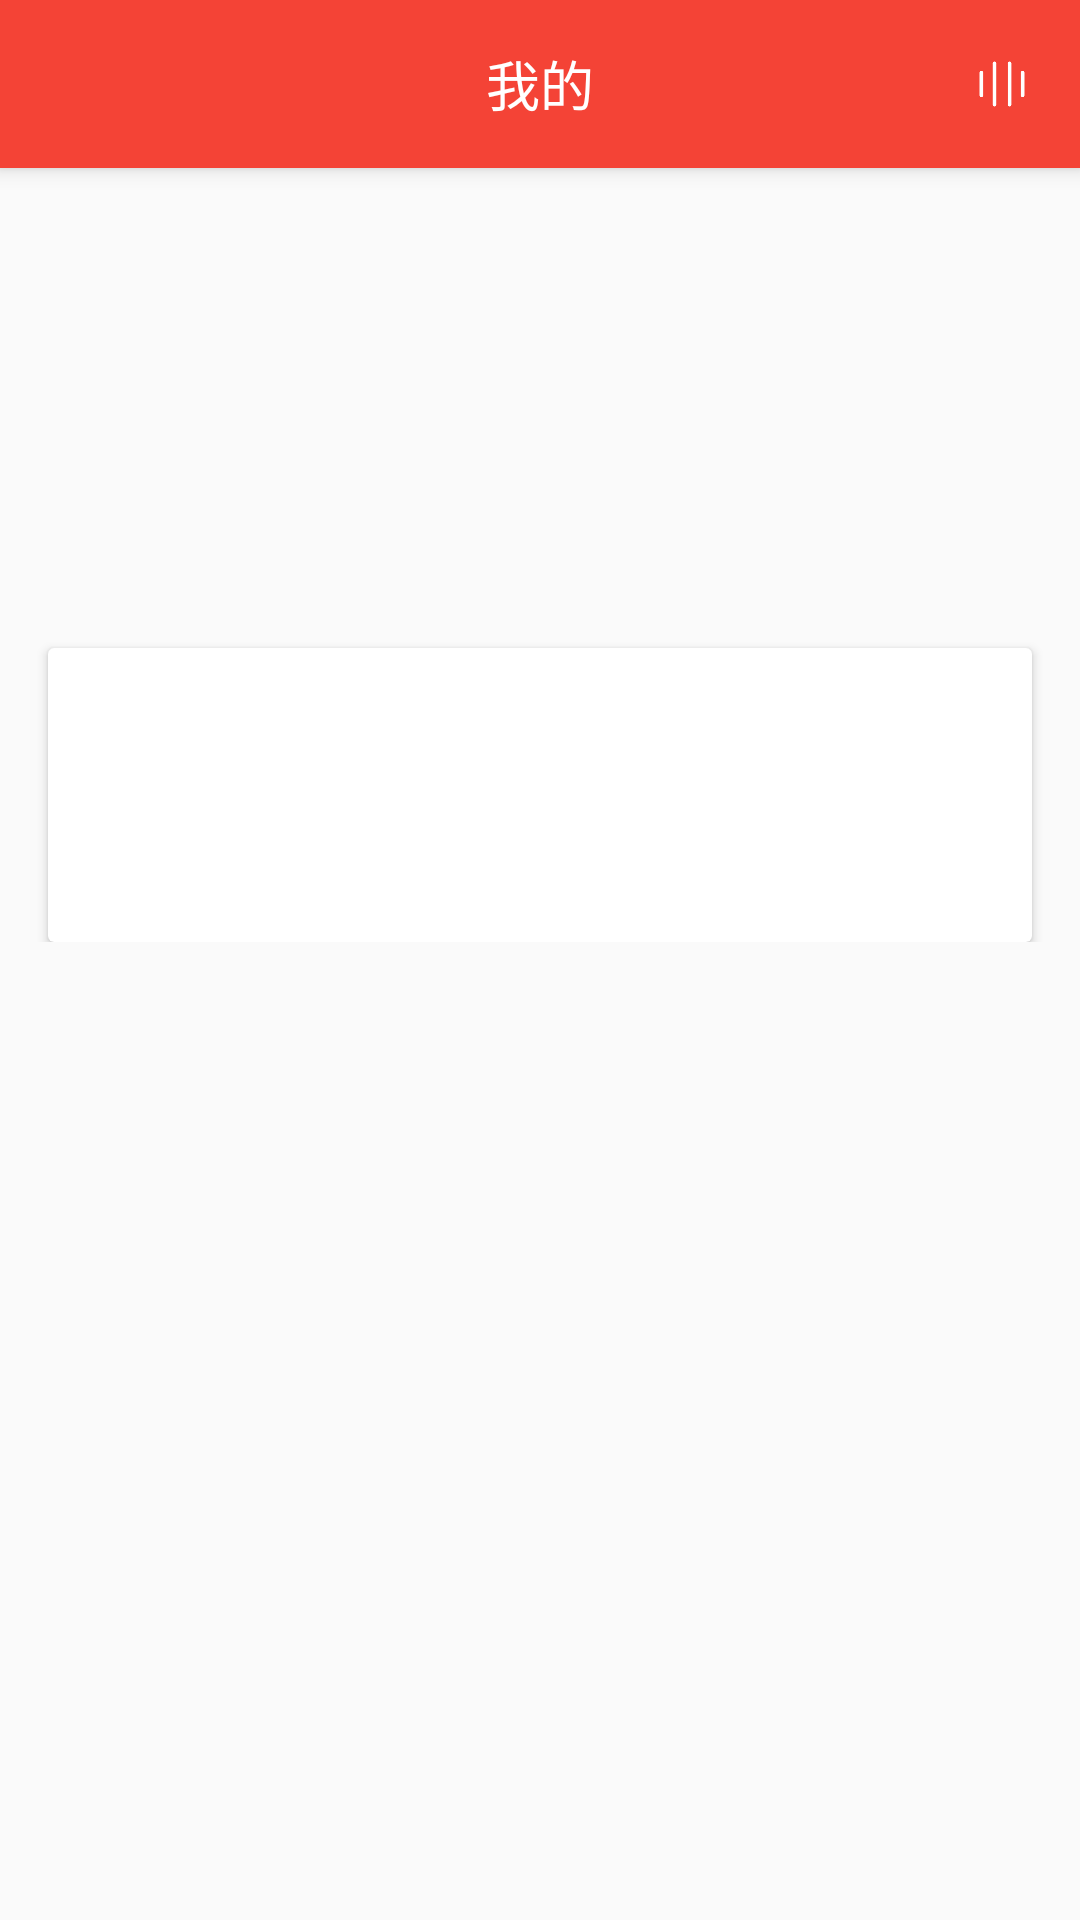

Screen size 1080px x 1920px. Icon name, then its center in pixels as [x,y]:
player: [1002,84]
